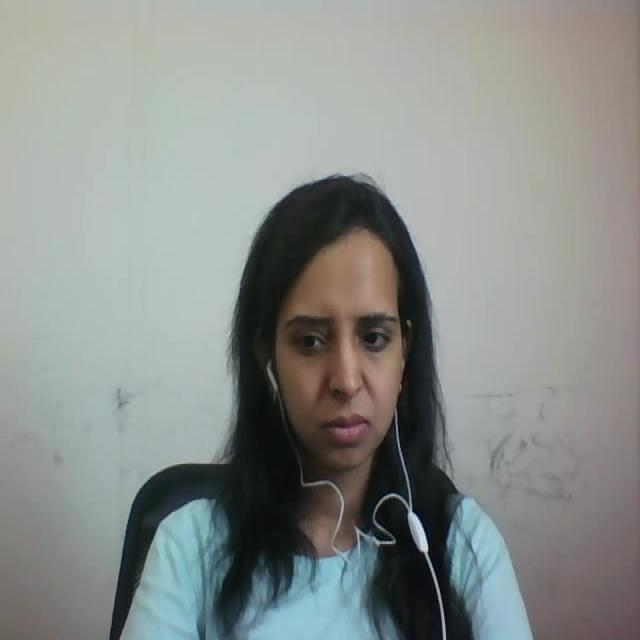Engaged: (235, 149, 464, 495)
